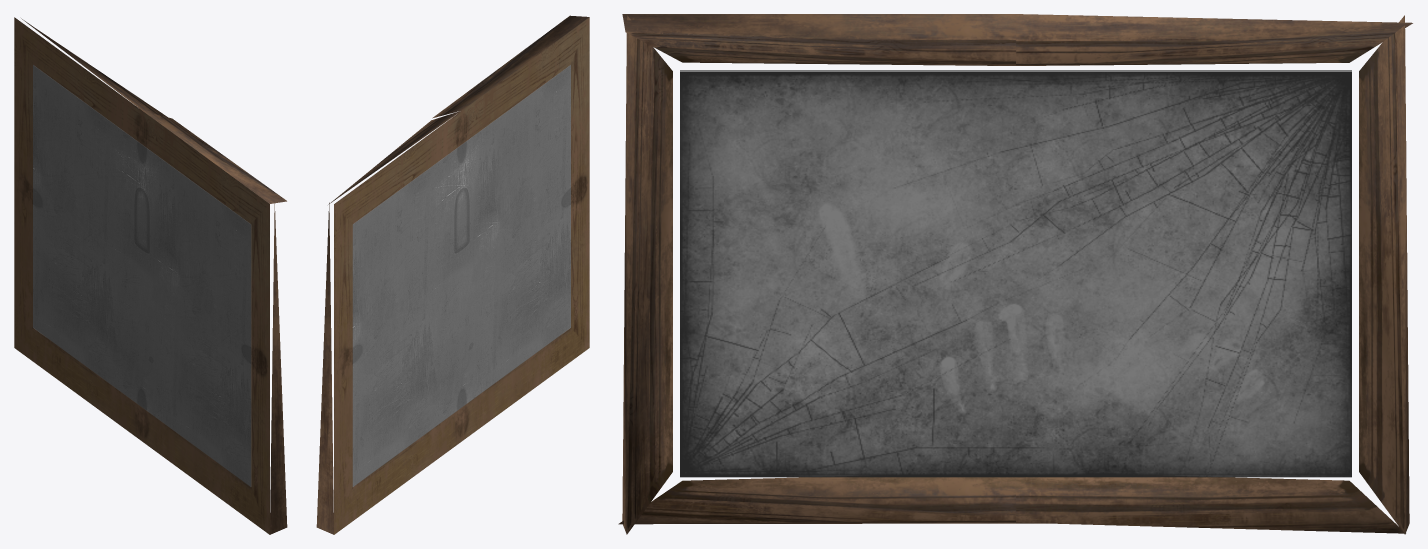
3 renders of one model, left to right at view 1: azimuth 30°, elevation 25°; view 2: azimuth 150°, elevation 25°; view 3: azimuth 270°, elevation 25°, orthographic. The views are drawn at different scales.
Parts seen in each view (by area): view 1: Mesh_0.023; view 2: Mesh_0.023; view 3: Mesh_0.023.
Boxes of the visible parts, left/top/right/bottom form: Mesh_0.023: left=14, top=17, right=287, bottom=534; Mesh_0.023: left=316, top=15, right=589, bottom=534; Mesh_0.023: left=618, top=14, right=1412, bottom=534.
Bounding box in the file's own units: 0.0777 × 0.8094 × 1.14.
1 material, 1 textured.
